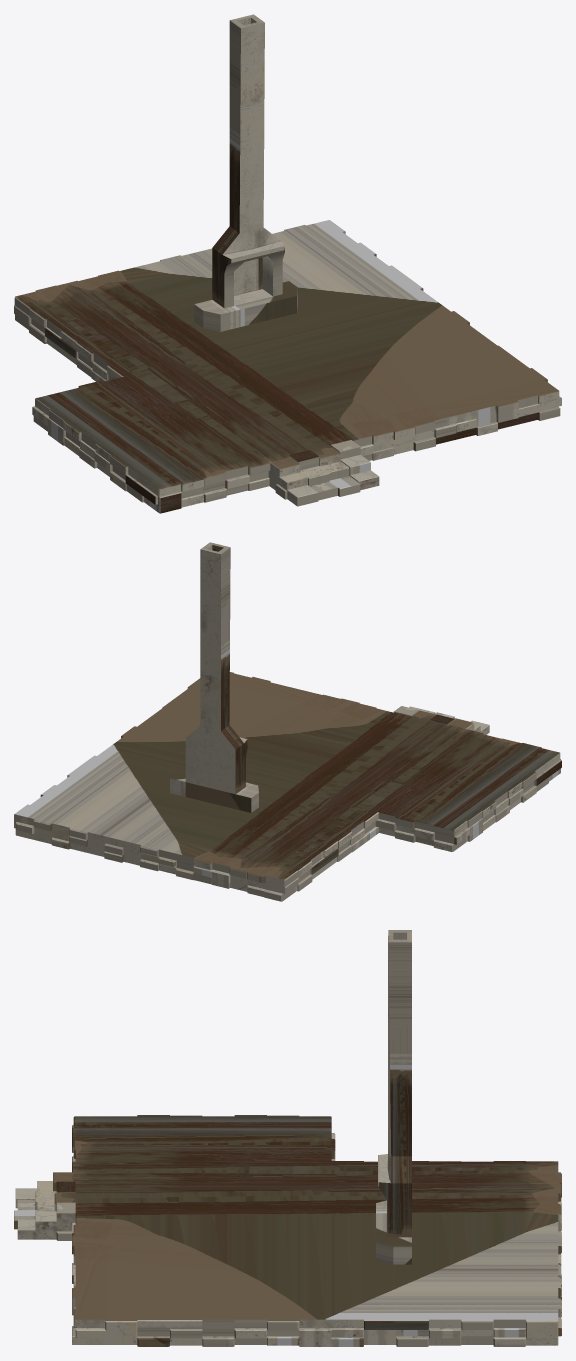
The model's file is foundation n chimney.fbx.
The picture shows the model from 3 angles, top to bottom: view 1: azimuth 30°, elevation 25°; view 2: azimuth 150°, elevation 25°; view 3: azimuth 270°, elevation 25°; orthographic projection. The views are drawn at different scales.
Visible parts, largest first — view 1: pCube765, pCube469; view 2: pCube765, pCube469; view 3: pCube765, pCube469.
Boxes of the visible parts, x1,y1,x2,y2 form: pCube765: [14, 220, 561, 513]; pCube469: [194, 14, 297, 331]; pCube765: [14, 672, 561, 901]; pCube469: [170, 542, 258, 812]; pCube765: [14, 1115, 561, 1346]; pCube469: [376, 930, 411, 1264].
Size of the model in its own units: 17.47 by 13 by 19.58.
Materials: 2 (2 with a texture image).
